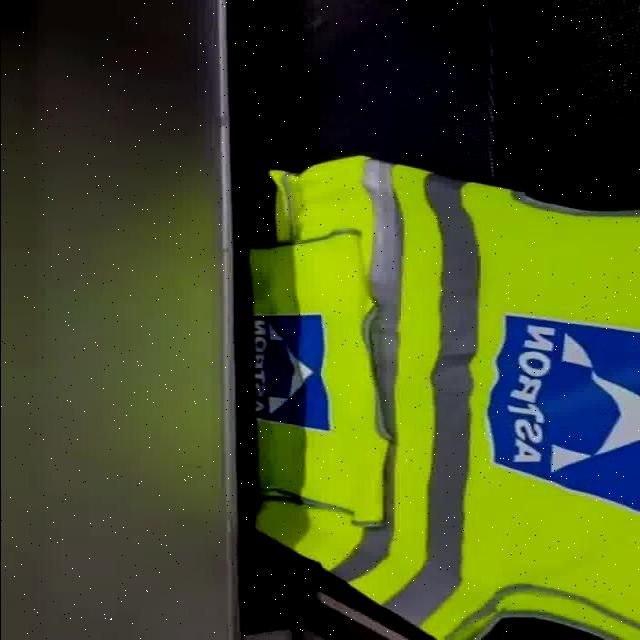Vest: (253, 153, 640, 640)
